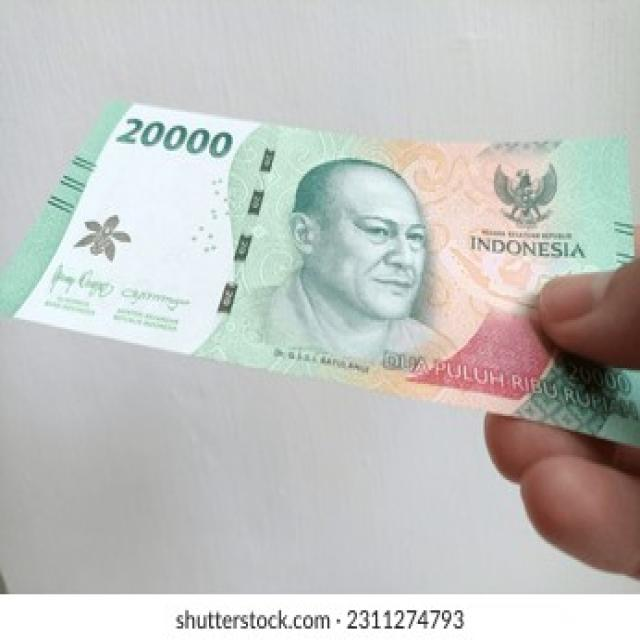dua puluh ribu rupiah: (0, 96, 640, 451)
